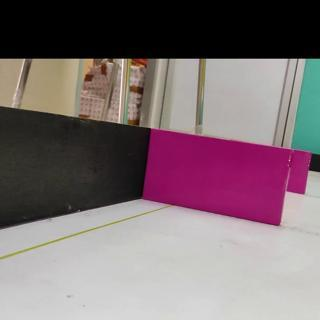xparking: (144, 130, 293, 228), (289, 150, 312, 196)
